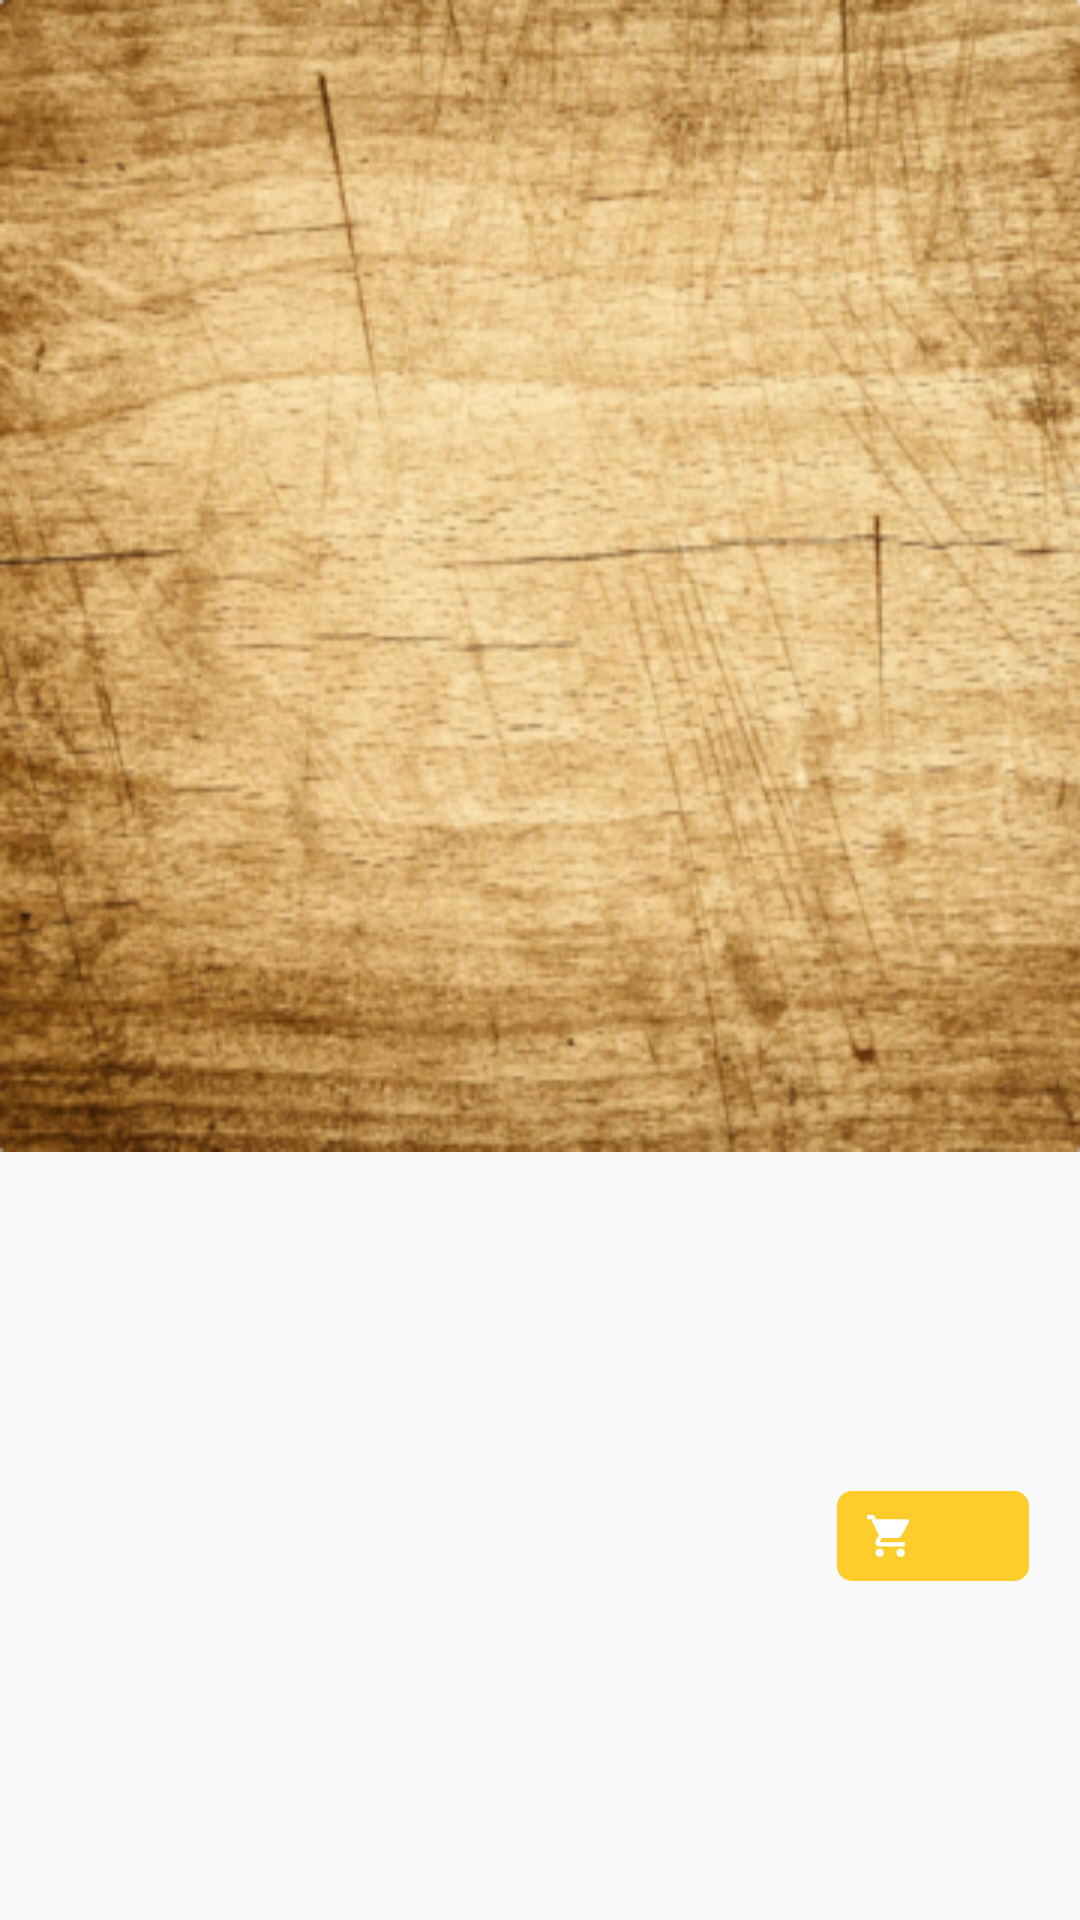

Icon click points for this 1080 x 1920 phone screenshot, format [x,y]:
cart: [888,1536]
